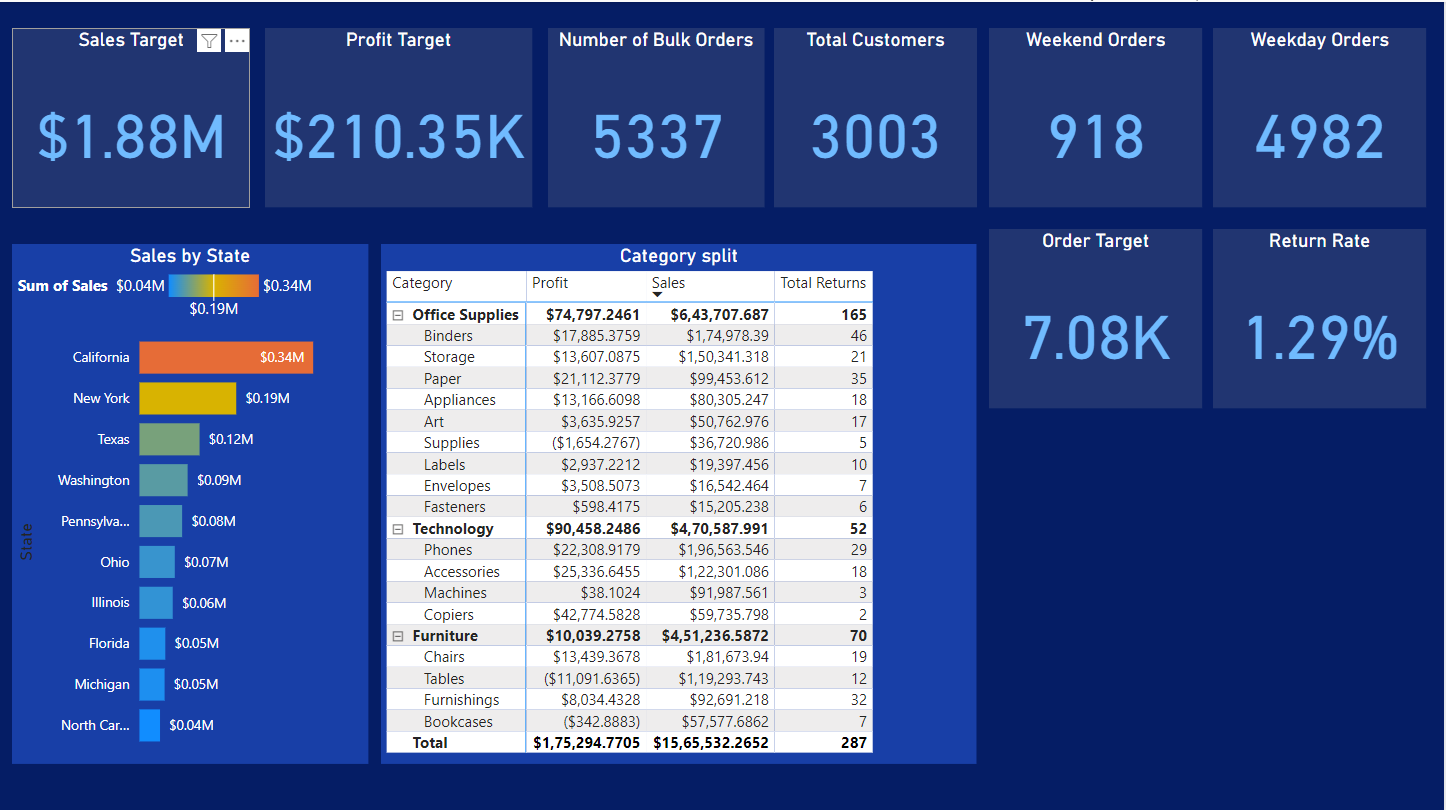

What the dashboard file says about the page in this screenshot:
{"tool":"powerbi","page":{"name":"Measures","canvas":[1280,720],"ordinal":1},"visuals":[{"type":"card","title":"Sales Target","fields":{"Values":["Measures (2).Sales Target"]},"box":[10.5,23.2,211.4,159.1],"z":0},{"type":"card","title":"Profit Target","fields":{"Values":["Measures (2).Profit Target"]},"box":[234.6,23.2,237,159.1],"z":2000},{"type":"card","title":"Number of Bulk Orders","fields":{"Values":["Measures (2).Bulk Orders"]},"box":[485.5,23.2,191.7,159.1],"z":3000},{"type":"barChart","title":"Sales by State","fields":{"Y":["Sum(SuperStore Sales DataSet xlsx - Sheet1.Sales)"],"Category":["SuperStore Sales DataSet xlsx - Sheet1.State"]},"box":[10.5,214.9,315.9,461.1],"z":4000},{"type":"pivotTable","title":"Category split","fields":{"Rows":["SuperStore Sales DataSet xlsx - Sheet1.Category","SuperStore Sales DataSet xlsx - Sheet1.Sub-Category"],"Values":["Sum(SuperStore Sales DataSet xlsx - Sheet1.Profit)","Sum(SuperStore Sales DataSet xlsx - Sheet1.Sales)","Sum(SuperStore Sales DataSet xlsx - Sheet1.Returns)"]},"box":[338,214.9,528.5,461.1],"z":5000},{"type":"card","title":"Total Customers","fields":{"Values":["Measures (2).Total Customers"]},"box":[686.5,23.2,180,159.1],"z":5001},{"type":"card","title":"Weekend Orders","fields":{"Values":["Measures (2).Weekend Orders"]},"box":[877,23.2,189.3,159.1],"z":5002},{"type":"card","title":"Weekday Orders","fields":{"Values":["Measures (2).Weekday Orders"]},"box":[1075.6,23.2,189.3,159.1],"z":5003},{"type":"card","title":"Return Rate","fields":{"Values":["Measures (2).Return Rate"]},"box":[1075.6,200.9,189.3,159.1],"z":5004},{"type":"card","title":"Order Target","fields":{"Values":["Measures (2).Order Target"]},"box":[877,200.9,189.3,159.1],"z":5005}]}

Visuals, with their boxes in screenshot pixels (x1, y1, x2, y2), scaled from the page's 1280x720 canvas onto the 1446x810 screenshot:
"Sales Target" card: <region>12, 26, 251, 205</region>
"Profit Target" card: <region>265, 26, 533, 205</region>
"Number of Bulk Orders" card: <region>548, 26, 765, 205</region>
"Sales by State" barChart: <region>12, 242, 369, 760</region>
"Category split" pivotTable: <region>382, 242, 979, 760</region>
"Total Customers" card: <region>776, 26, 979, 205</region>
"Weekend Orders" card: <region>991, 26, 1205, 205</region>
"Weekday Orders" card: <region>1215, 26, 1429, 205</region>
"Return Rate" card: <region>1215, 226, 1429, 405</region>
"Order Target" card: <region>991, 226, 1205, 405</region>
